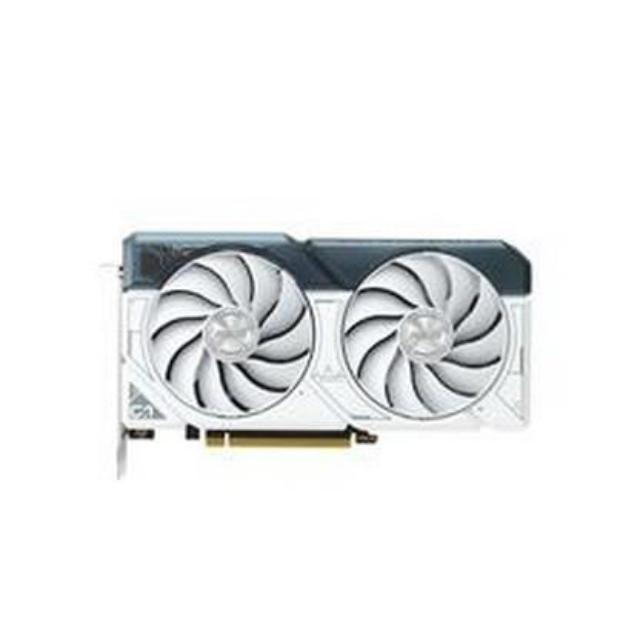GPU: (110, 210, 536, 450)
